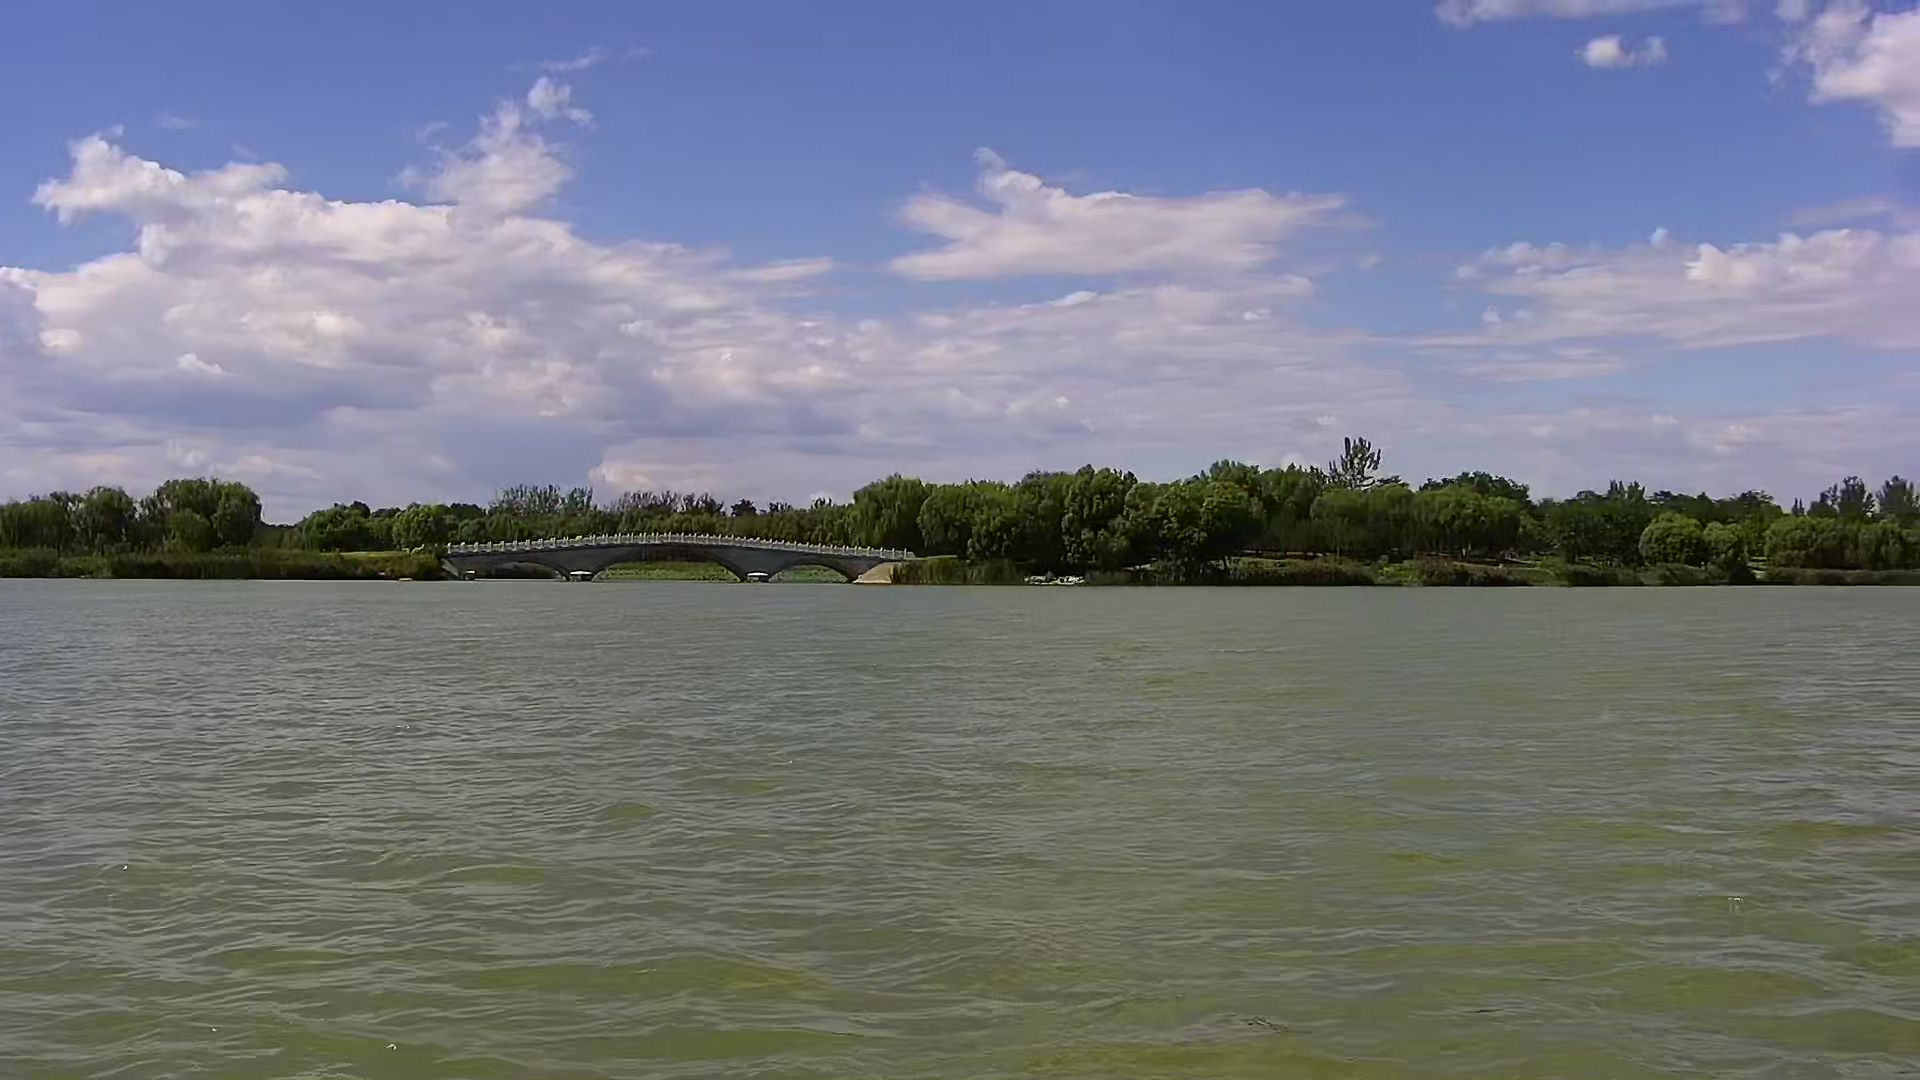bridge: (440, 521, 899, 580)
